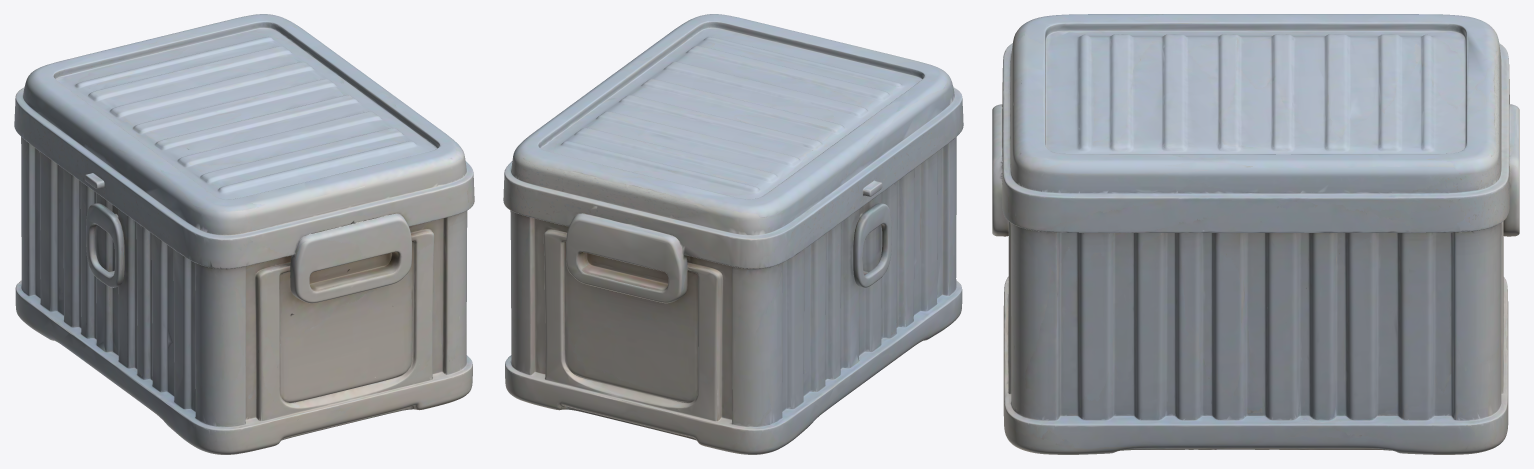
Rendered from storage_container_3d82f0c5_v4.glb.
The picture shows the model from 3 angles, left to right: view 1: azimuth 30°, elevation 25°; view 2: azimuth 150°, elevation 25°; view 3: azimuth 270°, elevation 25°; orthographic projection. The views are drawn at different scales.
Parts seen in each view (by area): view 1: material; view 2: material; view 3: material.
Part boxes in pixels (box(x1,y1,x2,y2)): material: box(14, 14, 474, 454); material: box(503, 14, 963, 454); material: box(992, 14, 1519, 454).
Bounding box in the file's own units: 0.7133 × 0.5721 × 0.9396.
Materials: 1 (1 with a texture image).
